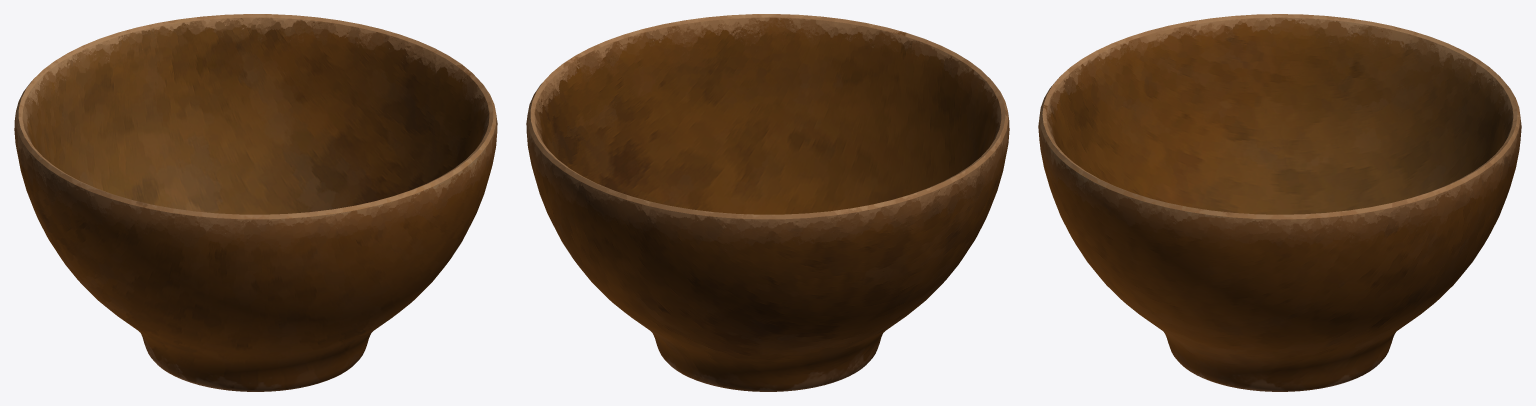
Rendered from Bowl.fbx.
3 renders of one model, left to right at view 1: azimuth 30°, elevation 25°; view 2: azimuth 150°, elevation 25°; view 3: azimuth 270°, elevation 25°, orthographic.
Parts seen in each view (by area): view 1: _high; view 2: _high; view 3: _high.
Part boxes in pixels (box(x1,y1,x2,y2)): _high: box(14, 14, 497, 391); _high: box(526, 14, 1009, 391); _high: box(1038, 14, 1521, 391).
Size of the model in its own units: 190 by 101 by 190.
Materials: 1 (1 with a texture image).
